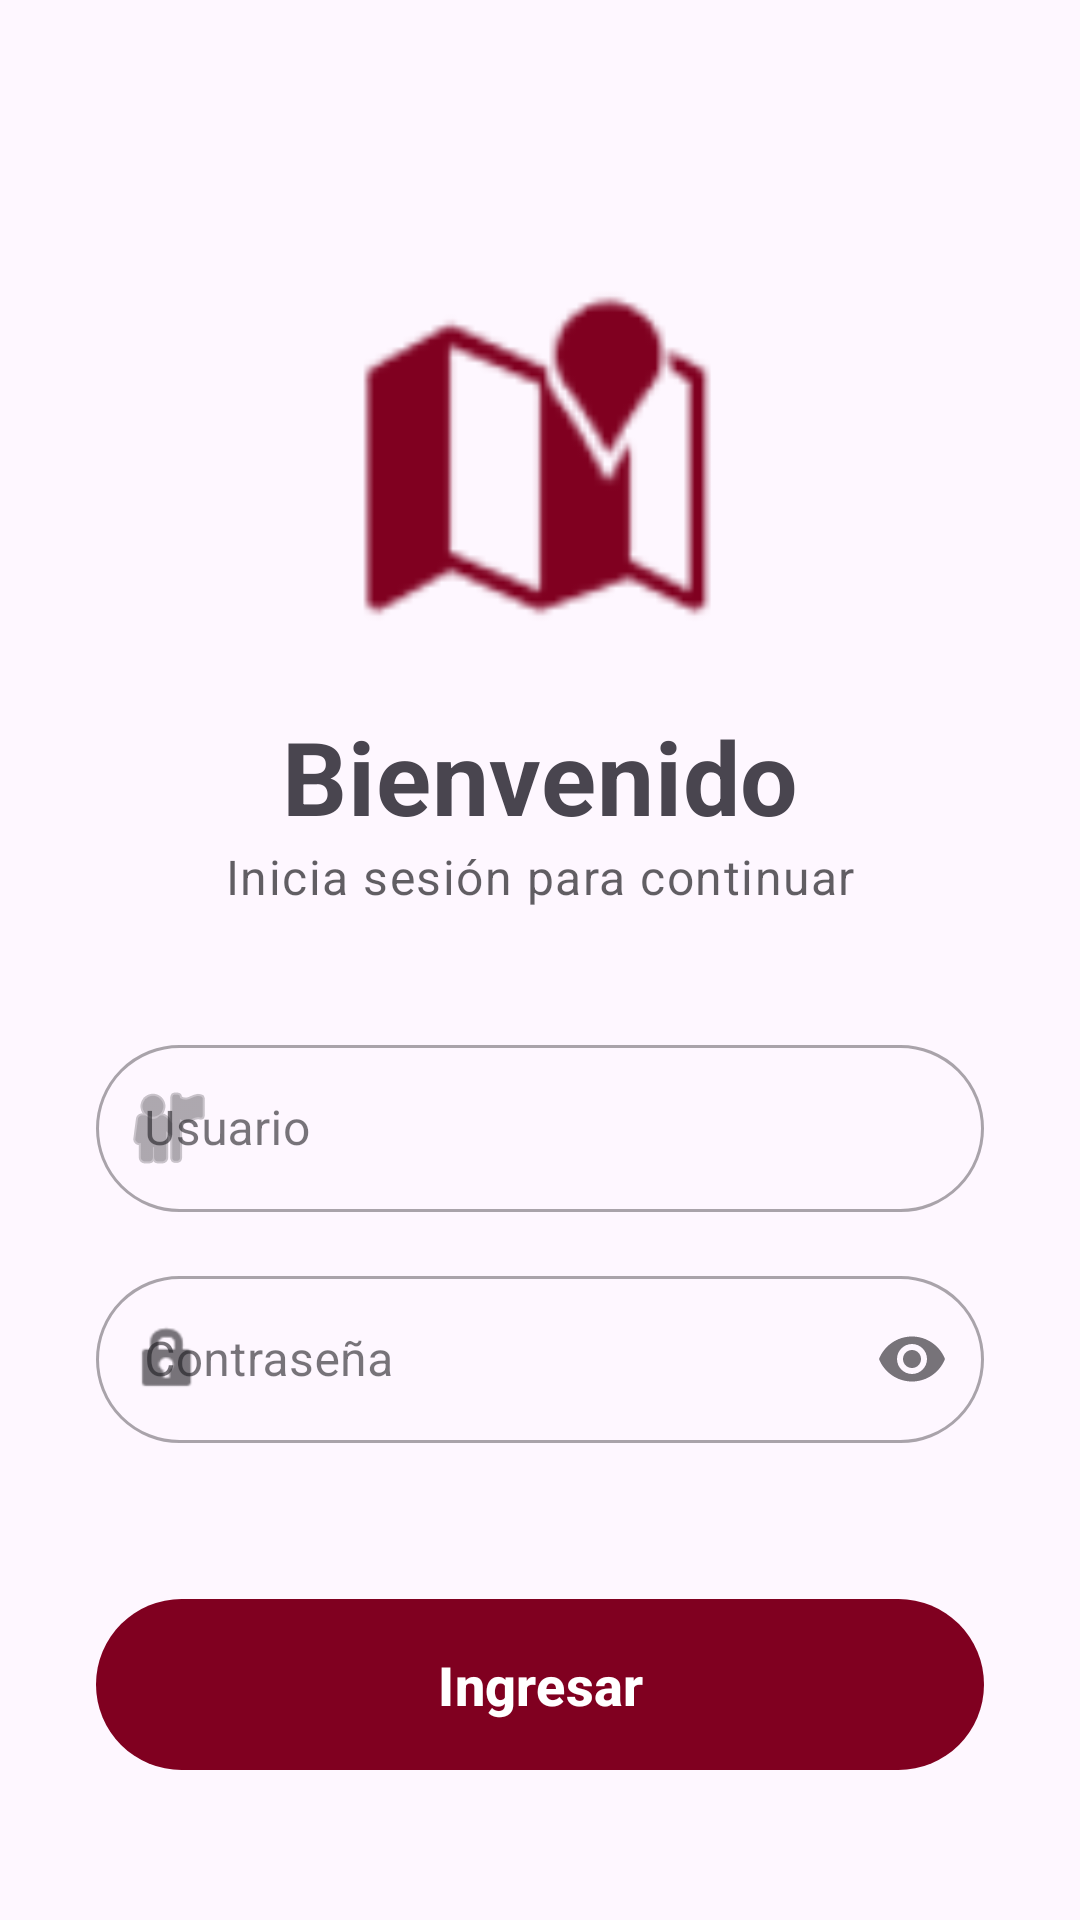

Icon bounding boxes for this 1080×1920 phone screenshot, format [x1, y1, x2, y2]:
map: [364, 297, 710, 615]
